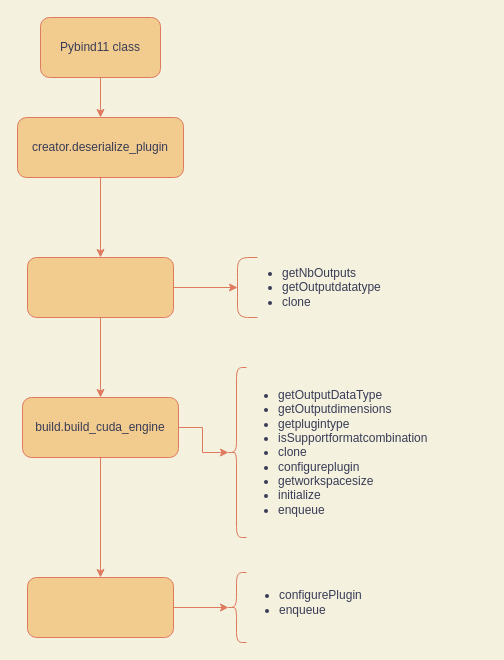
This 504x660 diagram has some shape labels left out. Here are the shapes that lost their labels. From the top down, the centre of each, then its label:
the point at 100,287: network.add_plugin_v2
the point at 100,607: context.execute_async
